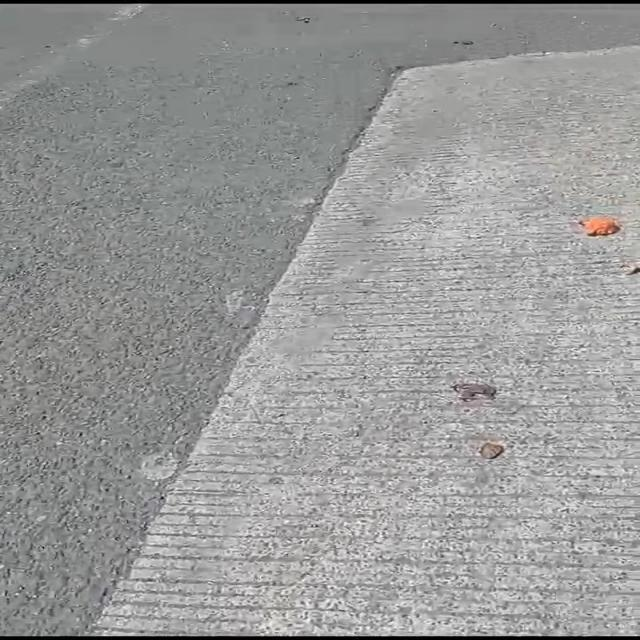Sambungan: (78, 41, 640, 640)
